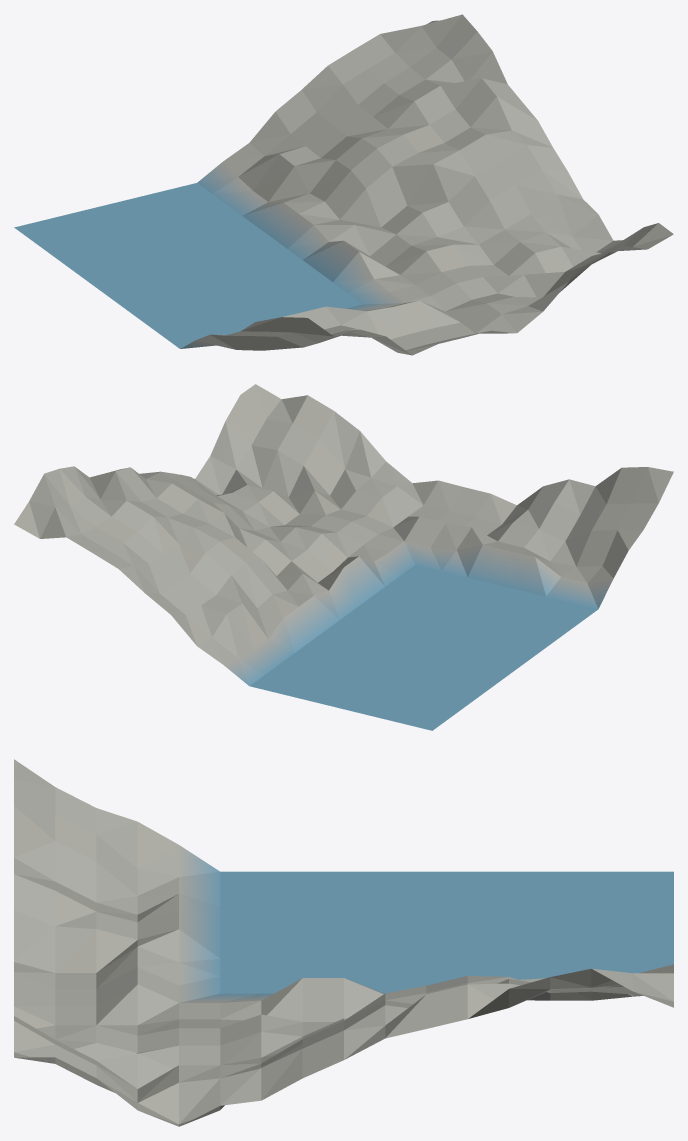
3 views of the same model, one above another, from view 1: azimuth 30°, elevation 25°; view 2: azimuth 150°, elevation 25°; view 3: azimuth 270°, elevation 25° (orthographic). The views are drawn at different scales.
Size of the model in its own units: 32 by 9.73 by 32.
